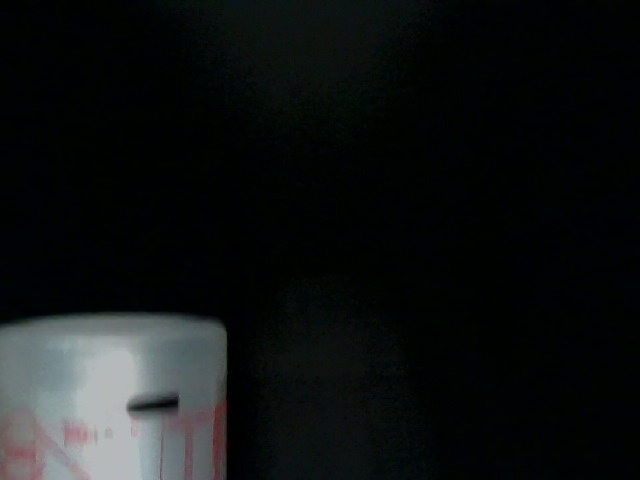CYLJ: (387, 191, 507, 307)
